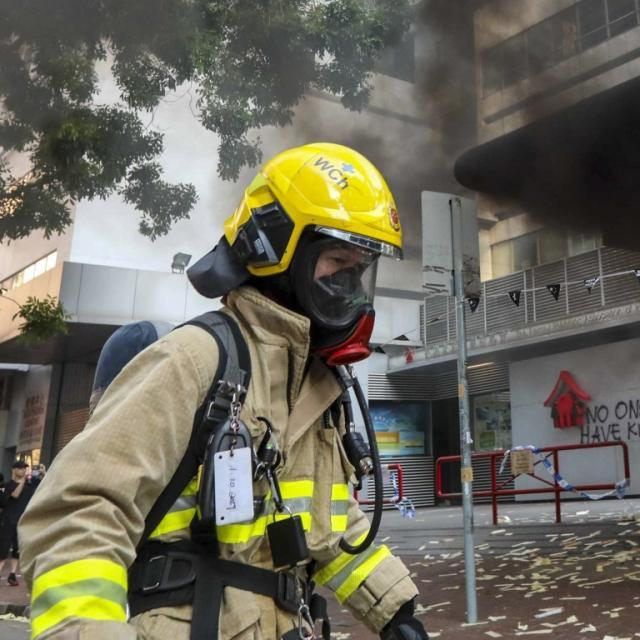Smoke: (258, 0, 576, 150)
